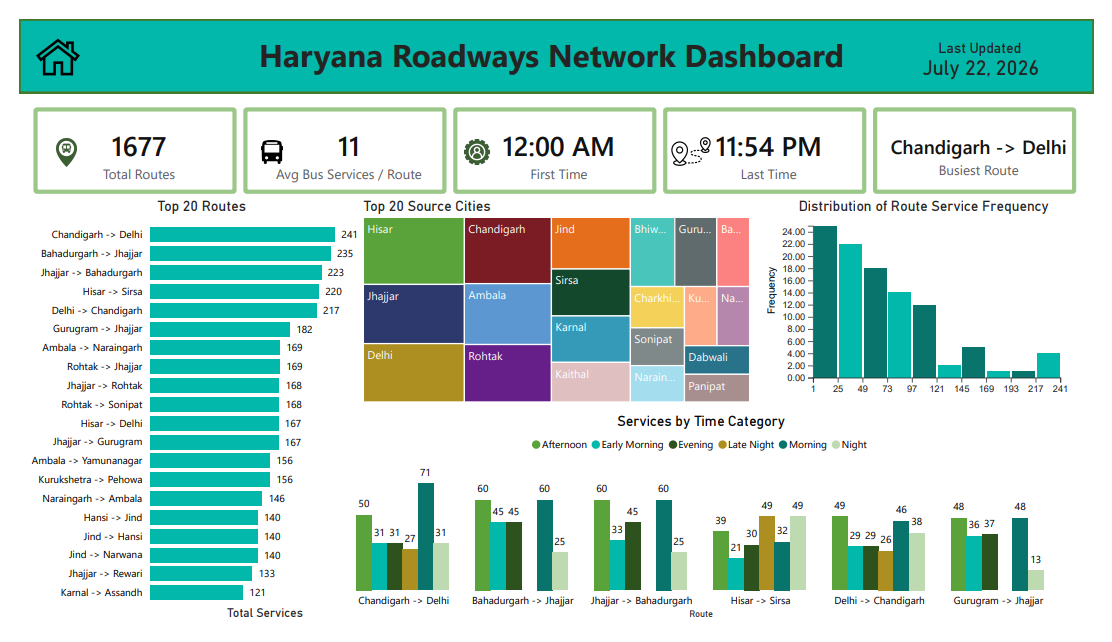

The page's visual inventory and layout, read from the dashboard file:
{"tool":"powerbi","page":{"name":"Route Analysis","canvas":[1280,720],"ordinal":1},"visuals":[{"type":"shape","title":"Haryana Roadways Network Dashboard","box":[0,0,1280.5,87.8],"z":0},{"type":"textbox","box":[281,11.7,715.6,62.9],"z":1000},{"type":"cardVisual","fields":{"Data":["final.Total Routes","final.Bus Services per Route","final.First Time","final.Last Time","final.Busiest Route"]},"box":[0,87.8,1280.5,137.6],"z":2000},{"type":"image","box":[39.5,131.5,33.7,52.7],"z":3000},{"type":"image","box":[287.3,123.5,27.8,68.8],"z":4000},{"type":"image","box":[775.6,134.5,48.3,46.8],"z":5000},{"type":"image","box":[529.3,143.2,32.2,29.3],"z":6000},{"type":"Histogram1445664487616","title":"Distribution of Route Service Frequency","fields":{"Values":["routes.route frequency"]},"box":[875.1,212.2,405.4,254.6],"z":7000},{"type":"barChart","title":"Top 20 Routes","fields":{"Category":["final.Route"],"Y":["final.Total Services"]},"box":[0,212.2,434.6,507.8],"z":8000},{"type":"treemap","title":"Top 20 Source Cities","fields":{"Values":["final.Total Services"],"Group":["final.From"]},"box":[405.4,212.2,469.8,248.8],"z":9000},{"type":"clusteredColumnChart","title":"Services by Time Category","fields":{"Category":["final.Route"],"Y":["final.Total Services"],"Series":["final.Time Category"]},"box":[345,468.4,935,252.1],"z":10000},{"type":"image","title":"pg2open","box":[21,16.4,51.4,58.4],"z":12000},{"type":"card","fields":{"Values":["final.Last Updated"]},"box":[1044.9,23.4,202,67.3],"z":14000},{"type":"textbox","box":[1090.2,19,118.5,36.6],"z":15000}]}

Visuals, with their boxes in screenshot pixels (x1, y1, x2, y2), scaled from the page's 1280x720 canvas onto the 1112x642 screenshot:
"Haryana Roadways Network Dashboard" shape: crop(0, 0, 1111, 78)
textbox: crop(244, 10, 866, 67)
cardVisual - final.Total Routes x final.Bus Services per Route: crop(0, 78, 1111, 201)
image: crop(34, 117, 64, 164)
image: crop(250, 110, 274, 171)
image: crop(674, 120, 716, 162)
image: crop(460, 128, 488, 154)
"Distribution of Route Service Frequency" Histogram1445664487616: crop(760, 189, 1111, 416)
"Top 20 Routes" barChart: crop(0, 189, 378, 641)
"Top 20 Source Cities" treemap: crop(352, 189, 760, 411)
"Services by Time Category" clusteredColumnChart: crop(300, 418, 1111, 641)
"pg2open" image: crop(18, 15, 63, 67)
card - final.Last Updated: crop(908, 21, 1083, 81)
textbox: crop(947, 17, 1050, 50)
